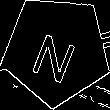N_N: (29, 19, 84, 82)
